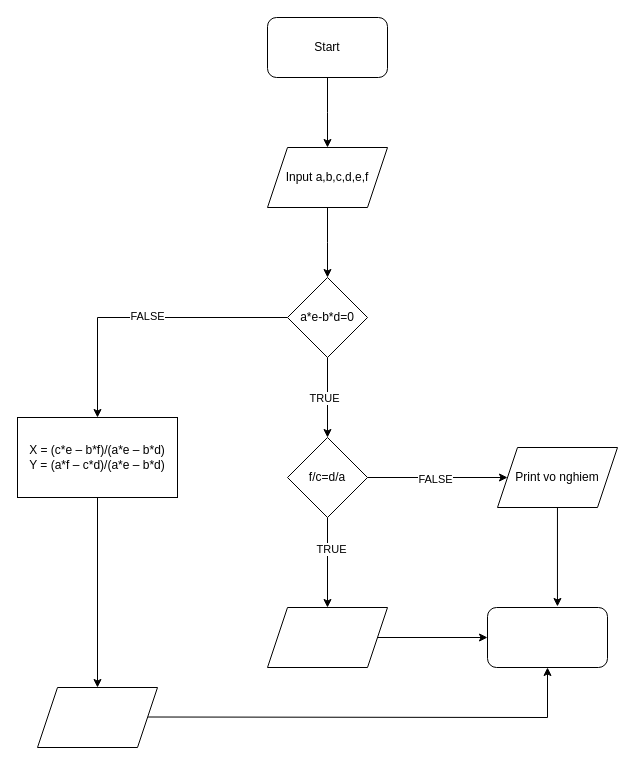
Some shapes in this 635 by 765 pixel diagram are drawn without their labels. The shapes that lost their labels are listed below. From the top down, each one's box as (x1, y1, x2, y2) in pixels, then its label:
(266, 606, 388, 668): Print vo so nghiem
(486, 606, 608, 668): End
(36, 686, 158, 748): Print X,Y
